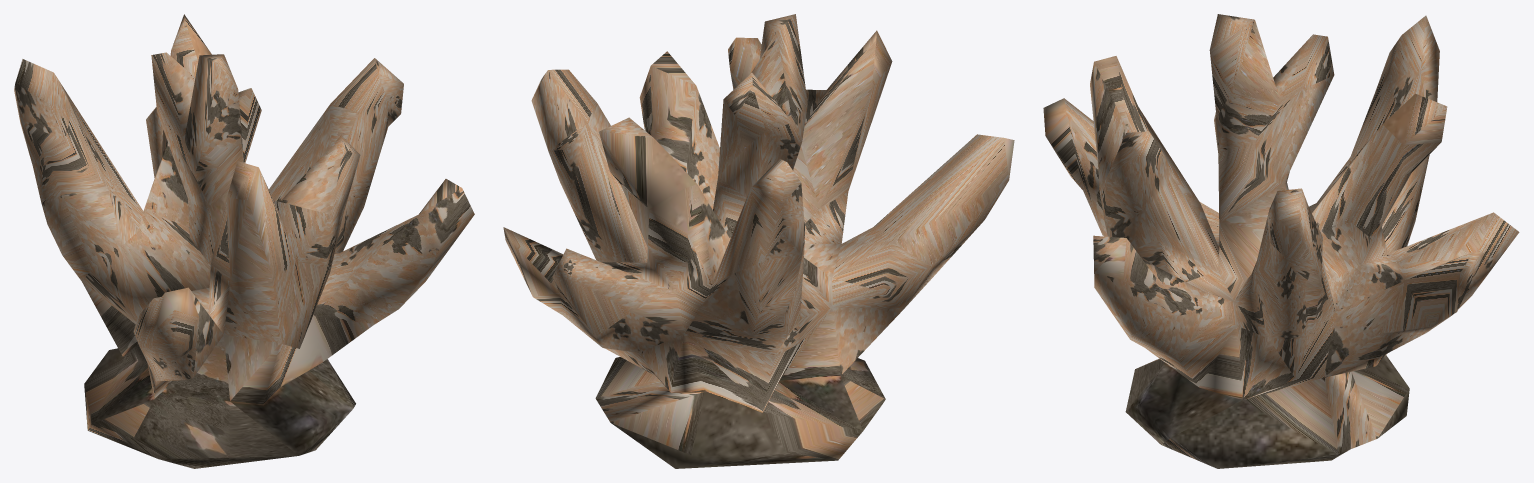
Rendered from dodemansduim.glb.
3 views of the same model, side by side, from view 1: azimuth 30°, elevation 25°; view 2: azimuth 150°, elevation 25°; view 3: azimuth 270°, elevation 25° (orthographic). The views are drawn at different scales.
Parts seen in each view (by area): view 1: tripo_node_f8b04c51-66e0-4a04-882c-9c79211382cf; view 2: tripo_node_f8b04c51-66e0-4a04-882c-9c79211382cf; view 3: tripo_node_f8b04c51-66e0-4a04-882c-9c79211382cf.
Part boxes in pixels (<box>): tripo_node_f8b04c51-66e0-4a04-882c-9c79211382cf: <box>14,14,474,468</box>; tripo_node_f8b04c51-66e0-4a04-882c-9c79211382cf: <box>503,14,1014,468</box>; tripo_node_f8b04c51-66e0-4a04-882c-9c79211382cf: <box>1043,14,1519,468</box>.
Size of the model in its own units: 0.2319 by 0.2437 by 0.265.
Materials: 1 (1 with a texture image).
